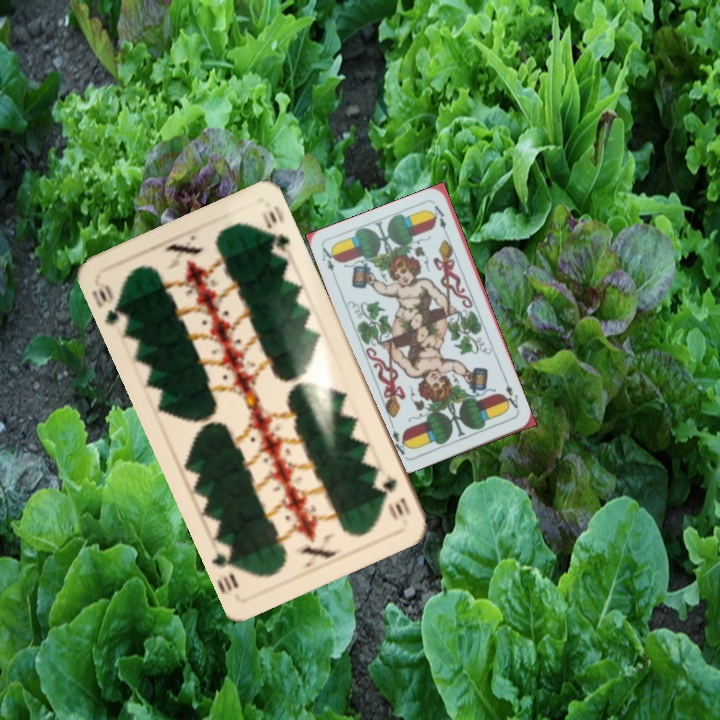EA: (499, 376, 522, 415), (318, 243, 340, 283)
G10: (87, 278, 131, 330), (378, 470, 414, 522)
